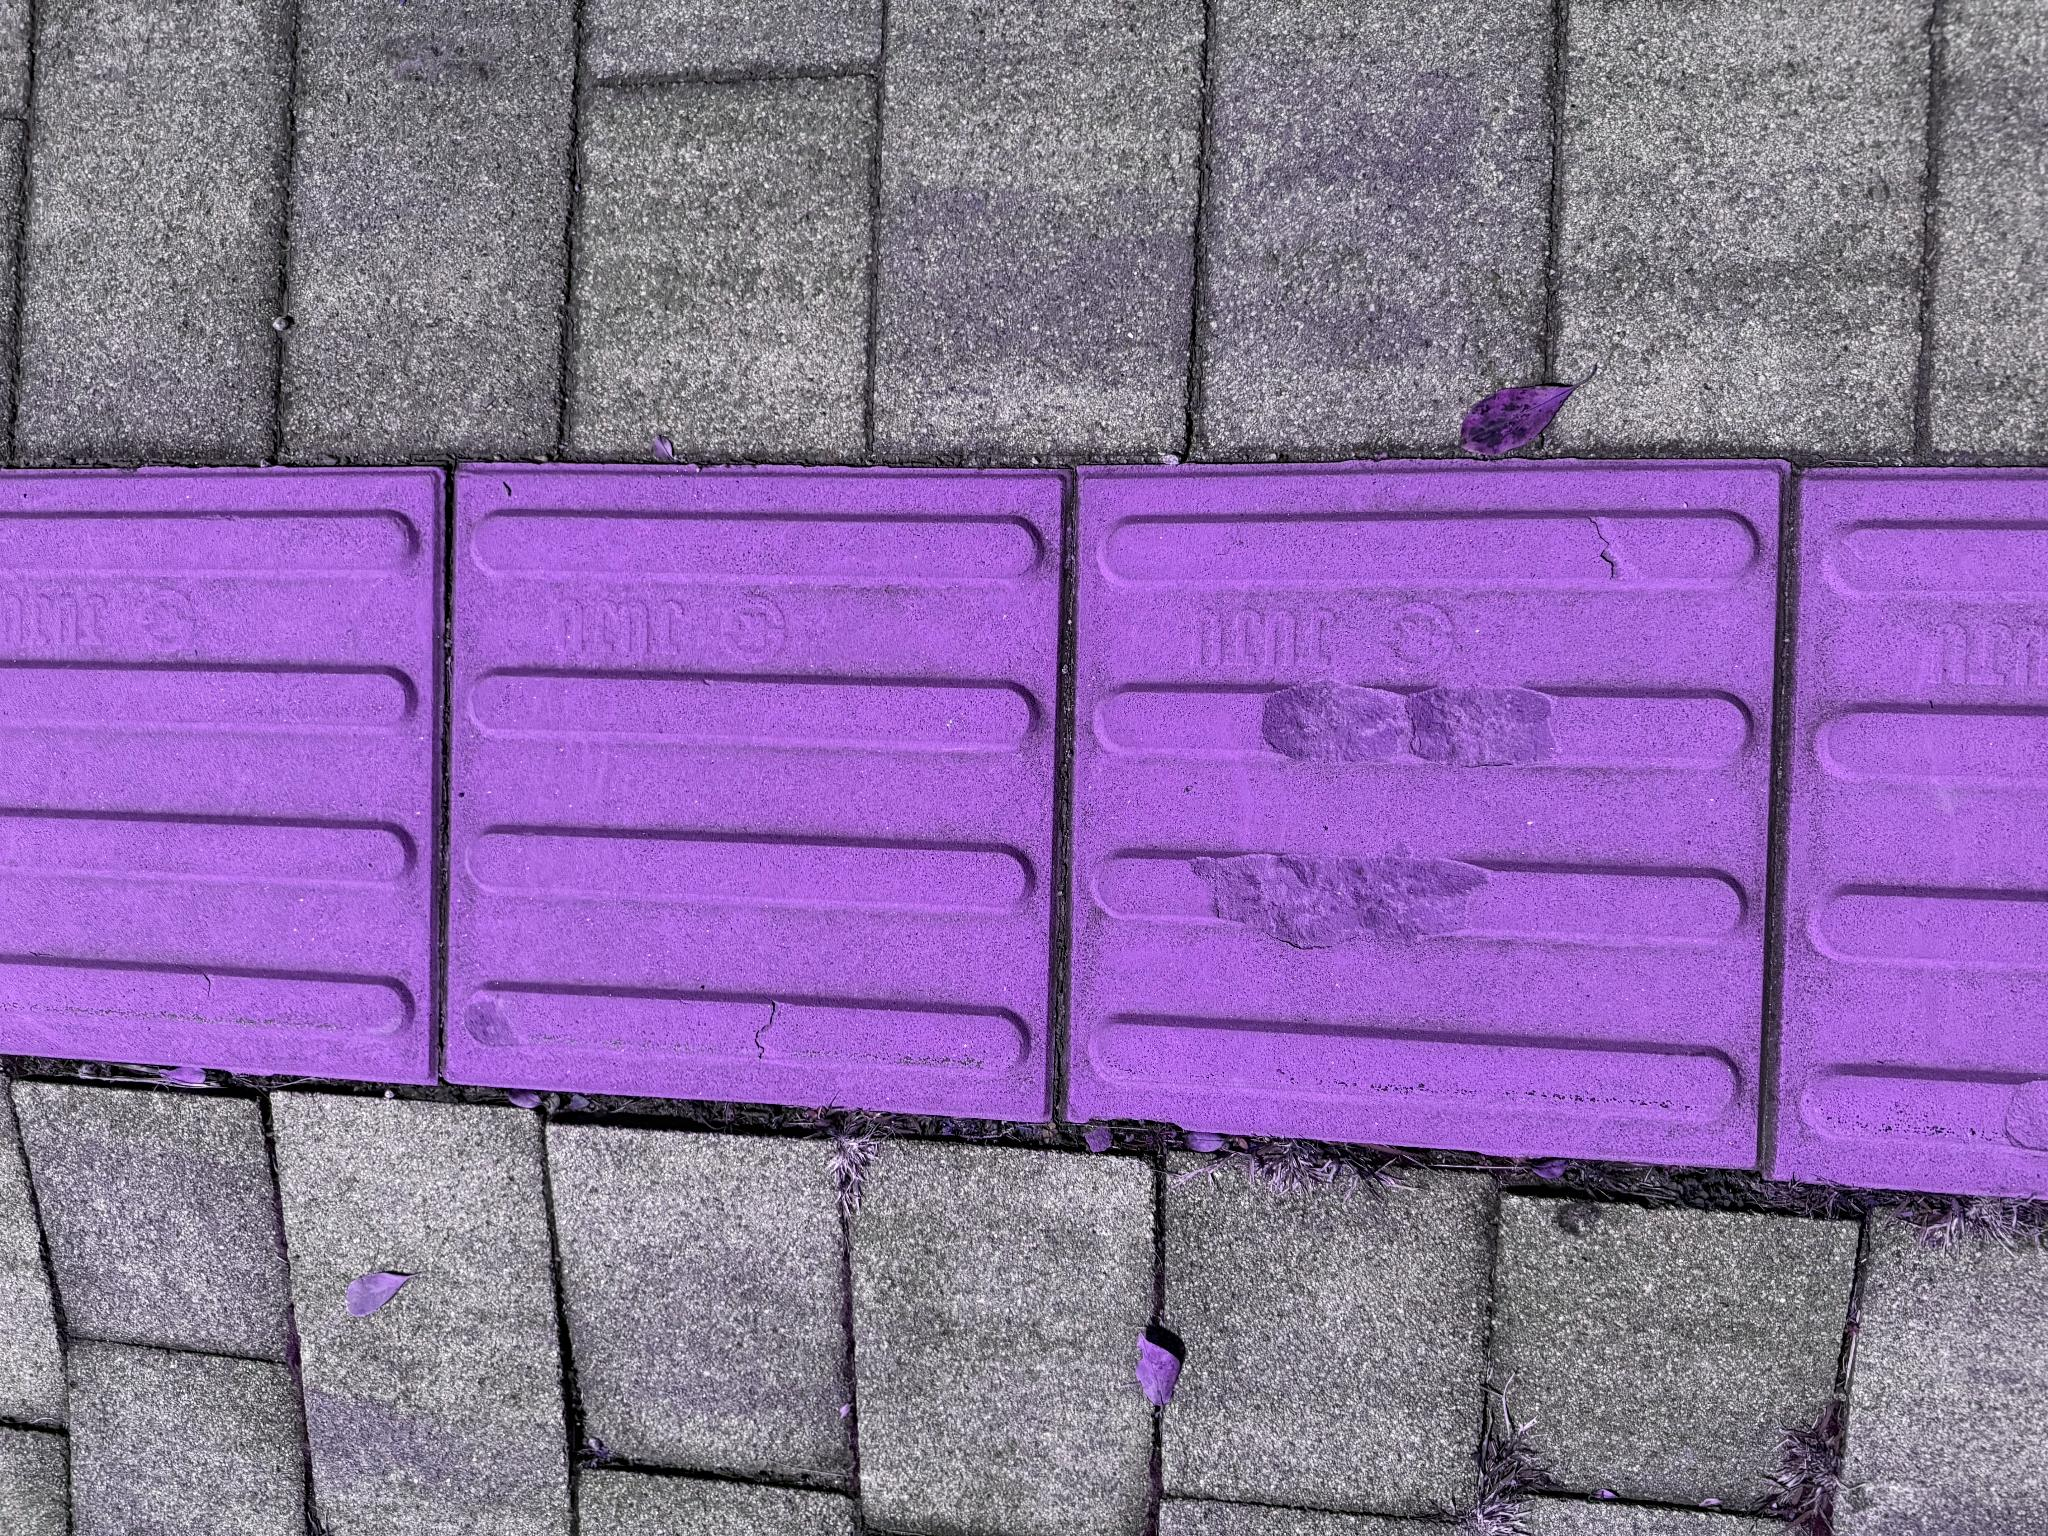Straight block broken: (387, 1075, 1069, 1536)
Straight block normal: (419, 452, 1064, 1054)
